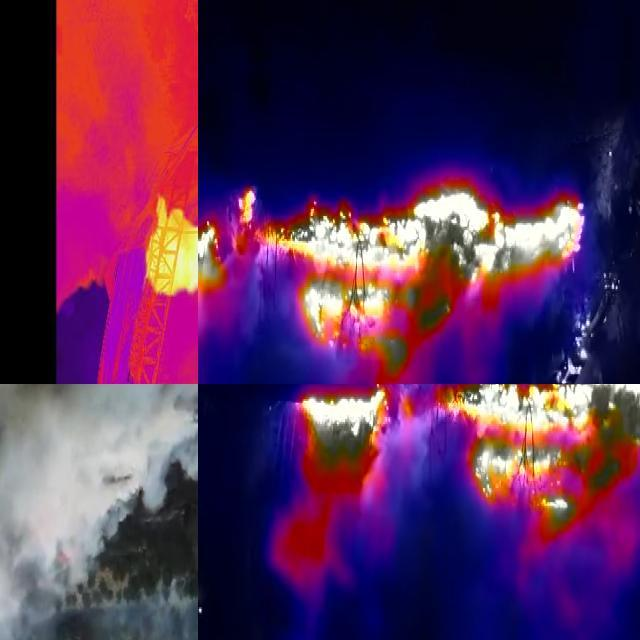fire: (237, 184, 587, 339), (437, 386, 640, 533), (290, 385, 403, 502), (144, 197, 195, 302), (199, 220, 226, 272)
